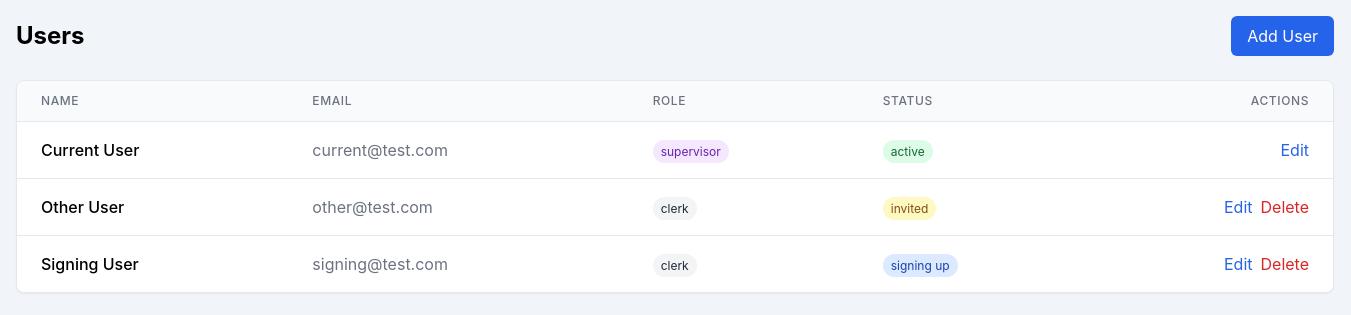
Scenario: UsersPanel › Delete User › should cancel delete when cancel is clicked
Expected: the text "Other User" is shown, 41,197 -> 124,217
What coordinates should you click on to do the following:
click the button "Delete" in the row of "Other User"
I would click on:
 (1285, 207)
Its box is 1260,195 -> 1309,219.
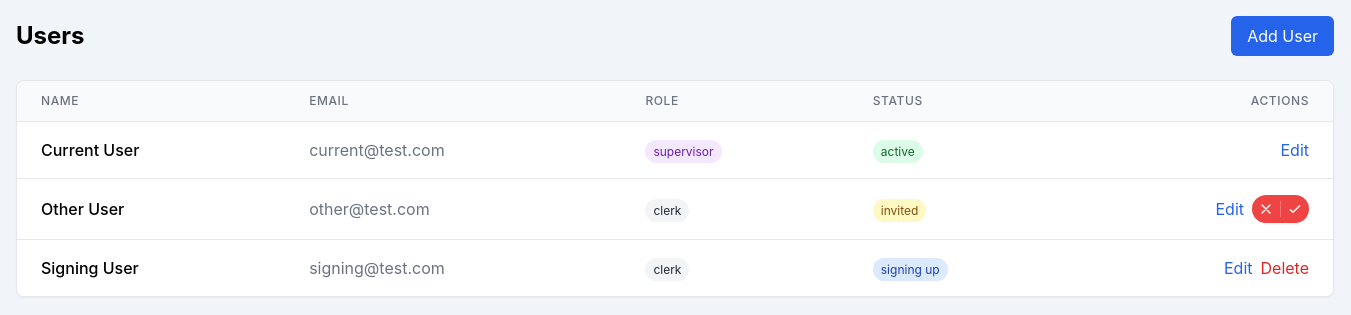
Expected: the button titled "Cancel" is shown
What coordinates should you click on to do the following:
click the button titled "Cancel"
I would click on:
 (1266, 209)
Its box is 1252,195 -> 1280,223.
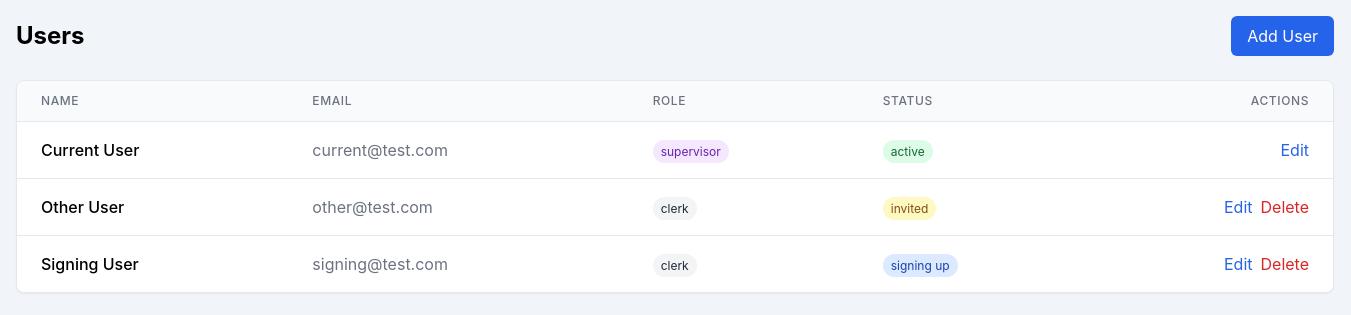
Expected: the button titled "Cancel" is gone
